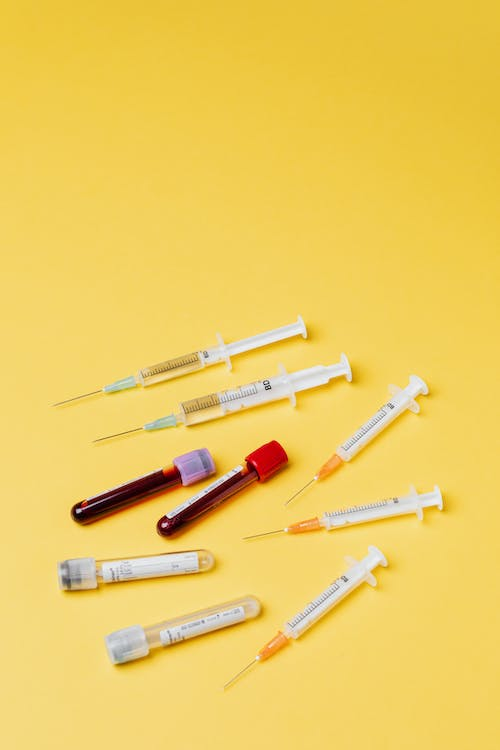blood: (153, 465, 260, 539), (67, 461, 183, 528)
